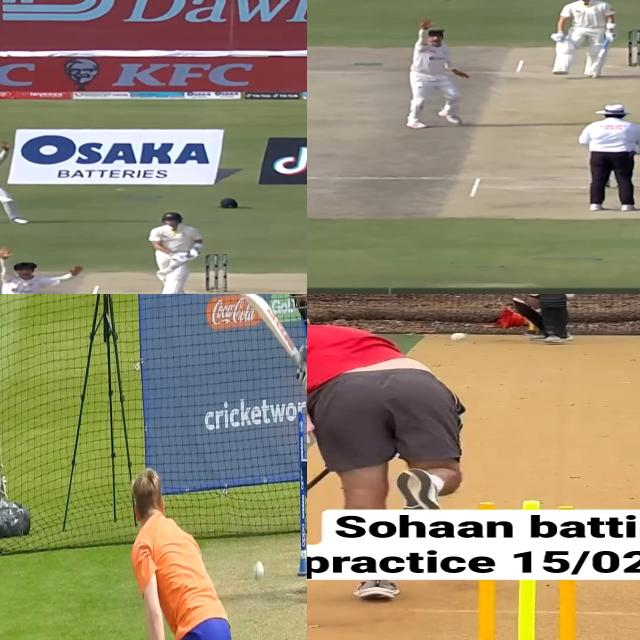Cricket ball: (252, 559, 266, 585), (451, 333, 467, 342)
Stumps: (461, 580, 590, 640), (205, 255, 227, 292), (627, 29, 640, 65)
